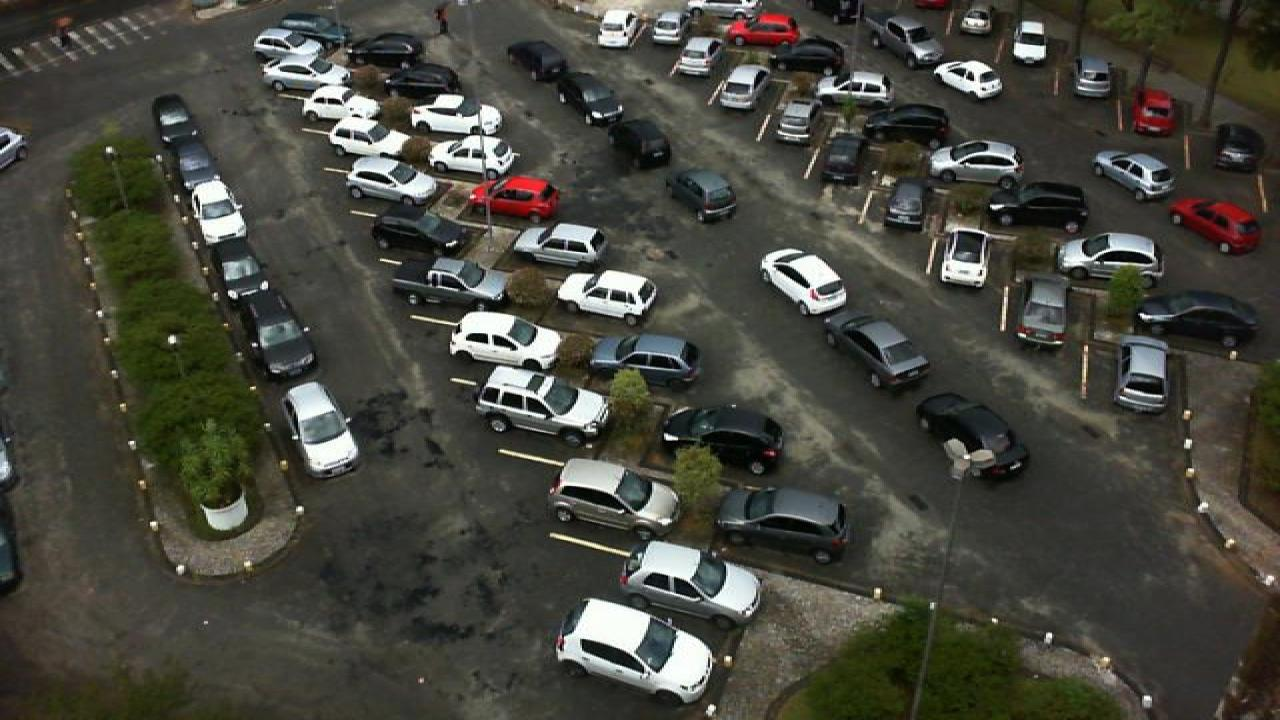Car: (554, 596, 716, 706), (618, 540, 764, 628), (470, 364, 614, 446), (546, 457, 684, 539), (714, 486, 852, 564), (916, 391, 1028, 483), (656, 404, 784, 476), (822, 313, 932, 390), (280, 380, 360, 480), (1132, 289, 1262, 350), (450, 310, 562, 370), (588, 333, 704, 387), (760, 248, 850, 316), (556, 269, 660, 325), (1166, 197, 1262, 256), (218, 243, 290, 321), (990, 179, 1092, 234), (394, 258, 508, 307), (244, 306, 318, 378), (1056, 232, 1164, 280), (344, 153, 440, 207), (926, 140, 1024, 190), (1112, 334, 1170, 414), (1010, 277, 1070, 350), (512, 222, 606, 268), (468, 176, 562, 222), (368, 212, 466, 256), (864, 13, 942, 68), (408, 94, 504, 138), (426, 134, 522, 178), (324, 117, 414, 162), (862, 102, 954, 146), (1094, 151, 1176, 200), (664, 167, 736, 222), (556, 72, 624, 125), (192, 181, 248, 243), (260, 55, 350, 93), (608, 118, 672, 170), (300, 86, 384, 124), (252, 27, 338, 64), (938, 227, 990, 288), (816, 74, 892, 114), (378, 64, 462, 100), (502, 38, 570, 82), (344, 32, 426, 68), (932, 60, 1004, 100), (168, 135, 222, 187), (768, 37, 846, 73), (722, 11, 802, 46), (1128, 86, 1180, 138), (1212, 122, 1264, 173), (882, 178, 930, 232), (150, 93, 200, 144), (818, 130, 864, 184), (278, 11, 352, 42), (718, 66, 770, 110), (674, 36, 724, 80), (772, 100, 818, 145), (594, 8, 642, 50), (1010, 19, 1052, 65), (1074, 56, 1114, 99), (686, 0, 764, 22), (646, 12, 686, 45), (956, 7, 994, 37)
